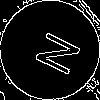N: (25, 25, 82, 78)
